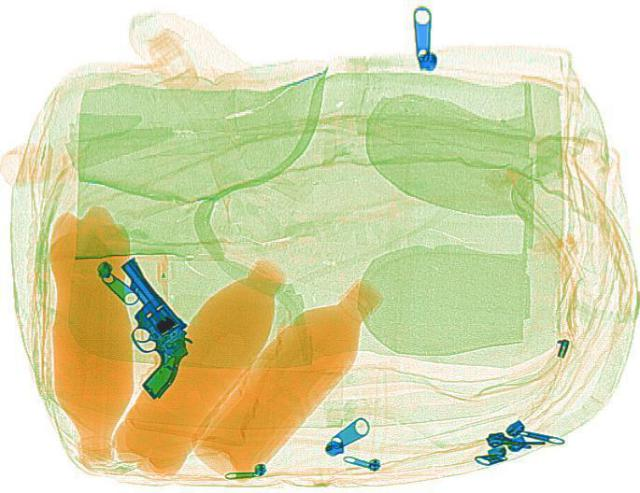Gun: (84, 250, 212, 400)
